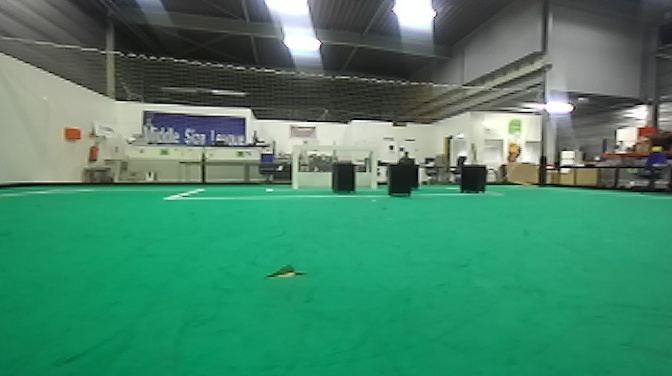goalpost: (364, 137, 378, 190), (290, 144, 298, 192)
